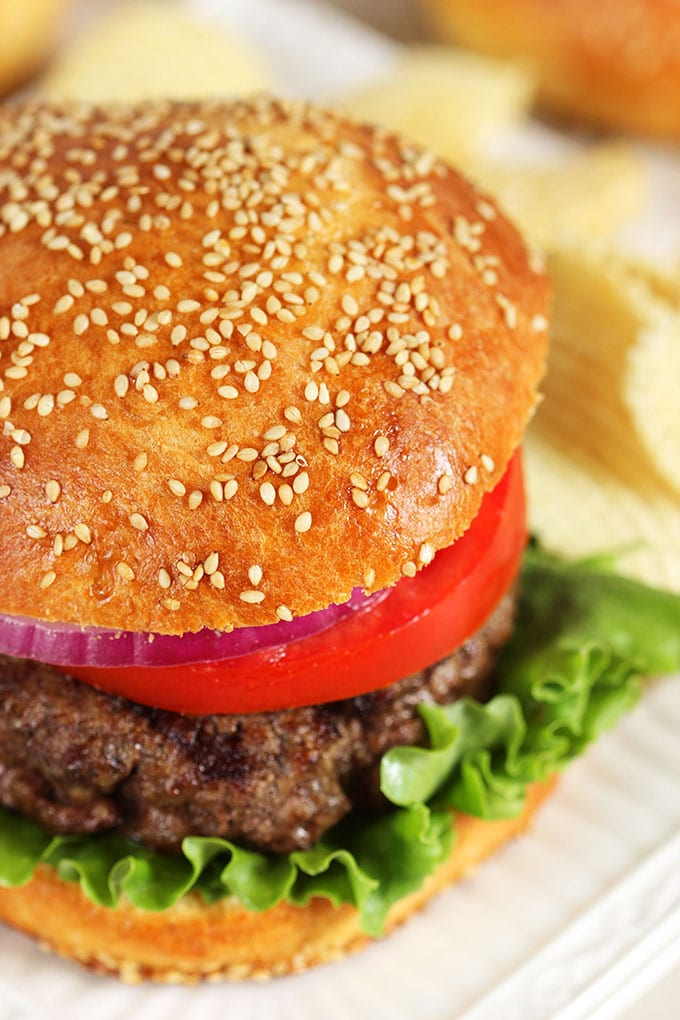hamburger_buns: (1, 75, 558, 871)
